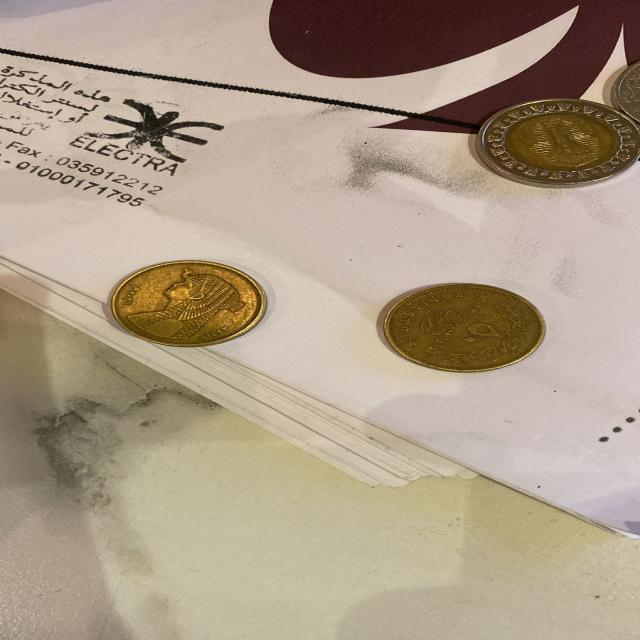Half Pound: (383, 283, 548, 373), (109, 261, 268, 347)
One Pound: (475, 99, 640, 188), (608, 60, 640, 128), (475, 141, 509, 169), (480, 120, 502, 141)
